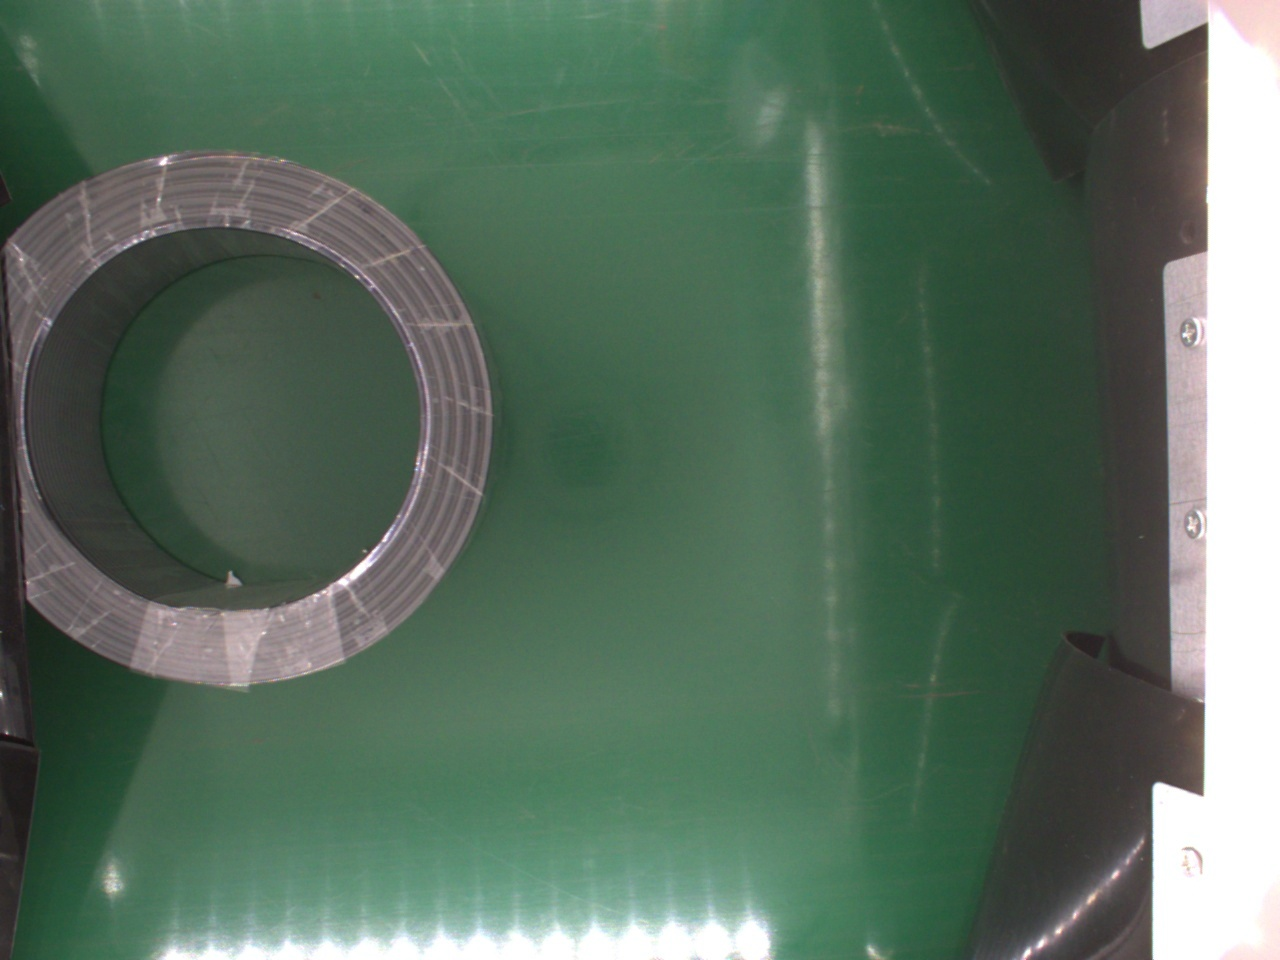black: (23, 149, 494, 696)
